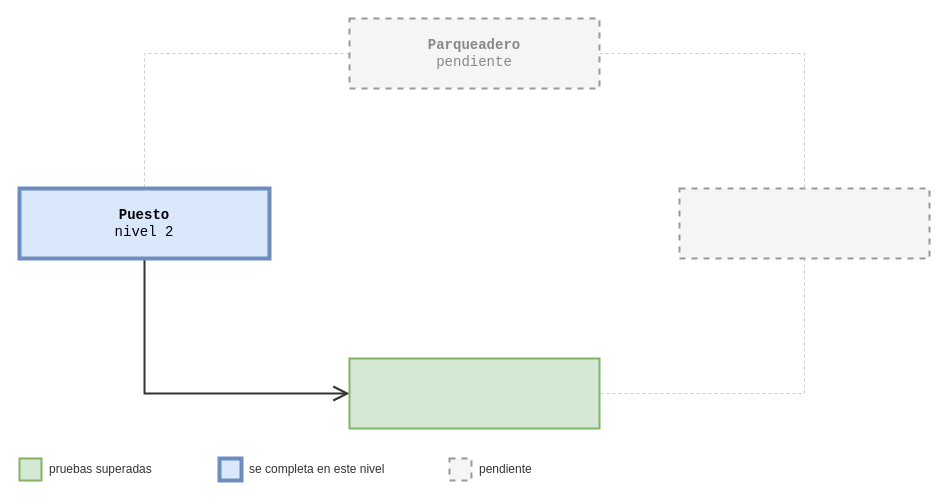
This 947x499 diagram has some shape labels left out. The shapes that lost their labels are listed below. From the top down, each one's centre as x and y in pixels, then its label:
At point (804, 223): "Recibo pendiente".
At point (474, 393): "Vehiculo ✓ pruebas superadas".
